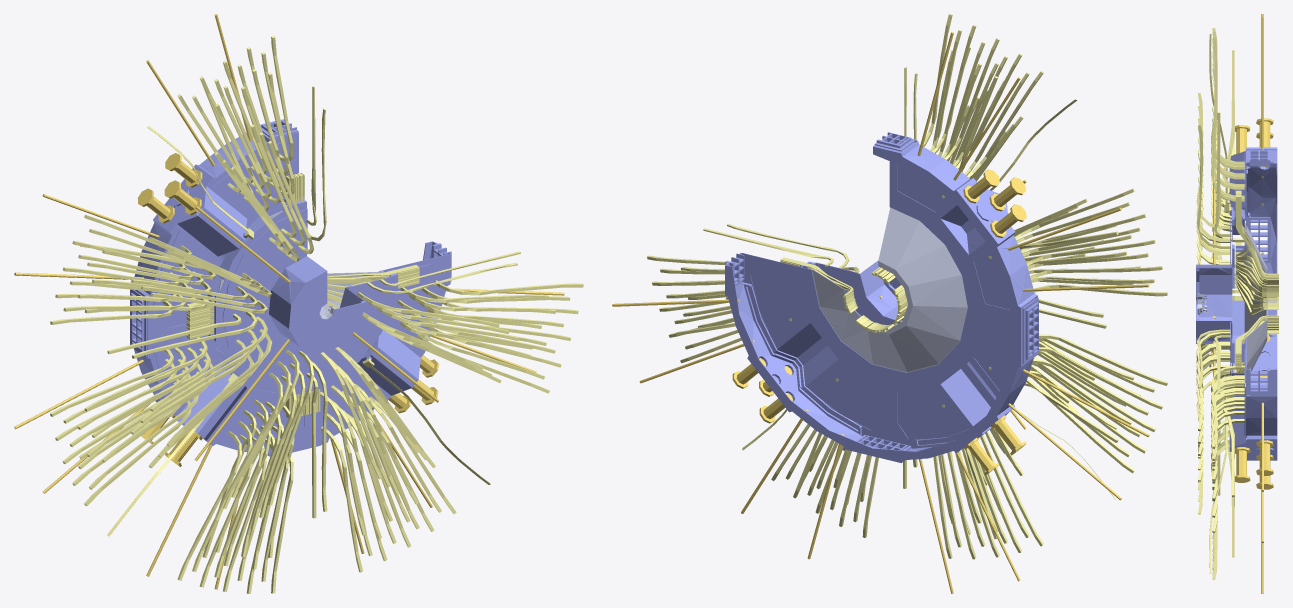
The model's file is pixel-pp1-side-A-cut3.glb.
3 views of the same model, side by side, from view 1: azimuth 30°, elevation 25°; view 2: azimuth 150°, elevation 25°; view 3: azimuth 270°, elevation 25° (orthographic). The views are drawn at different scales.
Visible parts, largest first — view 1: _000001DDF3269450_IndexedFaceSet, _000001DDF34AD2E0_IndexedFaceSet, _000001DDF3EE45C0_IndexedFaceSet; view 2: _000001DDF34AD2E0_IndexedFaceSet, _000001DDF3269450_IndexedFaceSet, _000001DDF3840160_IndexedFaceSet, _000001DDF3EE45C0_IndexedFaceSet; view 3: _000001DDF3269450_IndexedFaceSet, _000001DDF34AD2E0_IndexedFaceSet, _000001DDF3EE45C0_IndexedFaceSet, _000001DDF3840160_IndexedFaceSet, _000001DDF383E5D0_IndexedFaceSet.
Boxes of the visible parts, x1,y1,x2,y2 form: _000001DDF3269450_IndexedFaceSet: [50, 35, 583, 593]; _000001DDF34AD2E0_IndexedFaceSet: [130, 119, 451, 456]; _000001DDF3EE45C0_IndexedFaceSet: [14, 14, 564, 589]; _000001DDF34AD2E0_IndexedFaceSet: [725, 132, 1038, 462]; _000001DDF3269450_IndexedFaceSet: [647, 14, 1167, 559]; _000001DDF3840160_IndexedFaceSet: [808, 207, 967, 372]; _000001DDF3EE45C0_IndexedFaceSet: [612, 32, 1149, 593]; _000001DDF3269450_IndexedFaceSet: [1196, 27, 1278, 580]; _000001DDF34AD2E0_IndexedFaceSet: [1196, 147, 1277, 460]; _000001DDF3EE45C0_IndexedFaceSet: [1213, 14, 1273, 593]; _000001DDF3840160_IndexedFaceSet: [1244, 220, 1267, 383]; _000001DDF383E5D0_IndexedFaceSet: [1197, 293, 1206, 315].
Size of the model in its own units: 2.54 by 2.54 by 0.3741.
